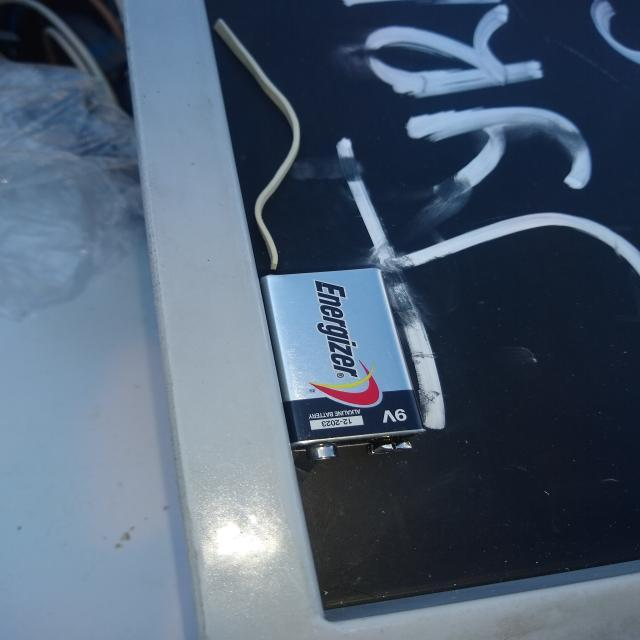9V: (259, 265, 425, 453)
